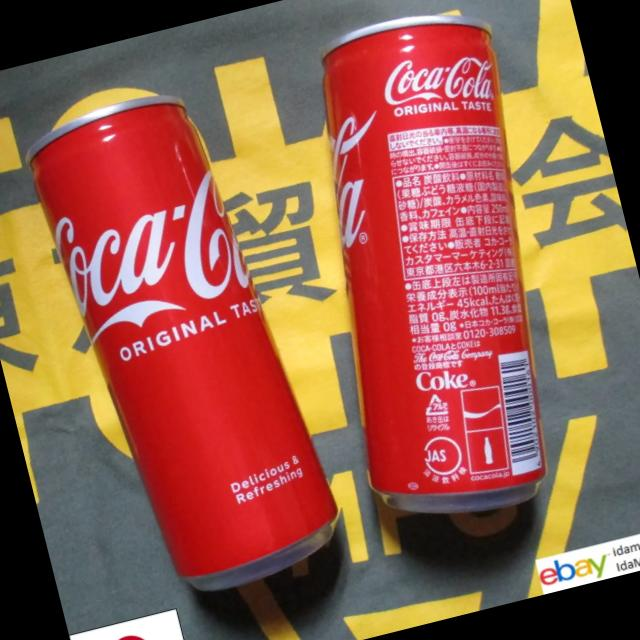cocacola: (6, 80, 356, 628), (297, 4, 595, 530)
